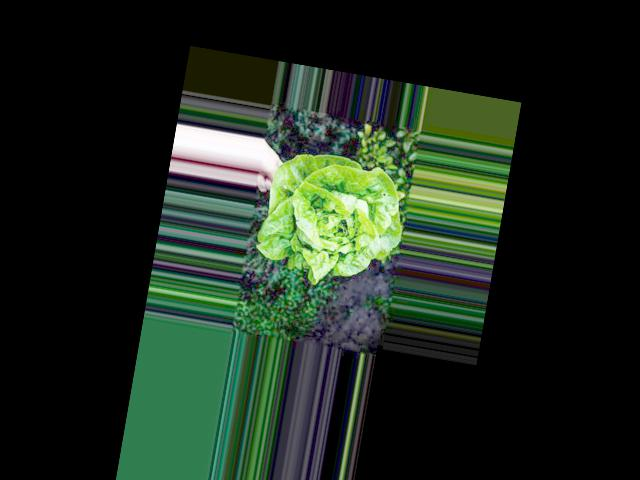lettuce: (269, 157, 394, 273)
